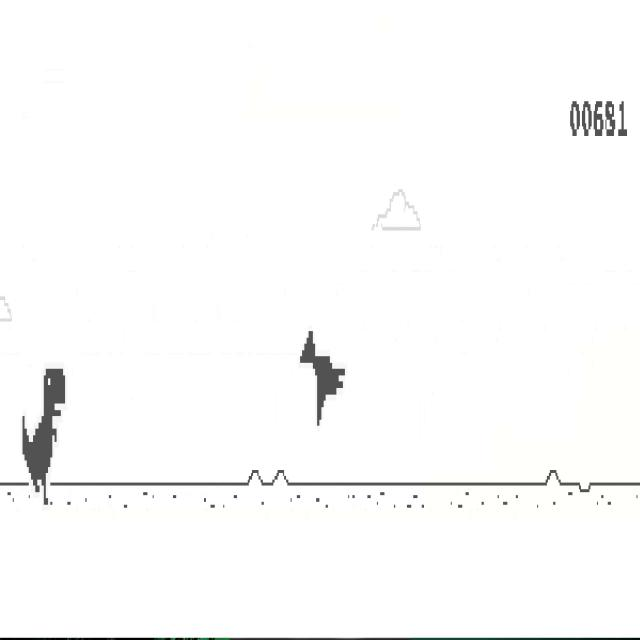dino: (22, 368, 66, 507)
ptero: (300, 330, 346, 428)
